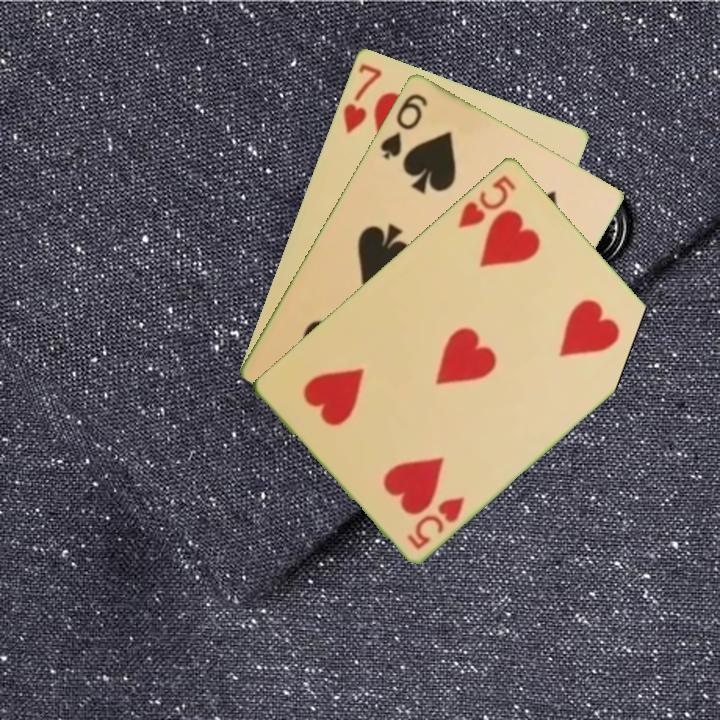5h: (455, 170, 520, 231), (403, 492, 468, 552)
6s: (376, 89, 430, 162)
7h: (339, 59, 385, 136)
